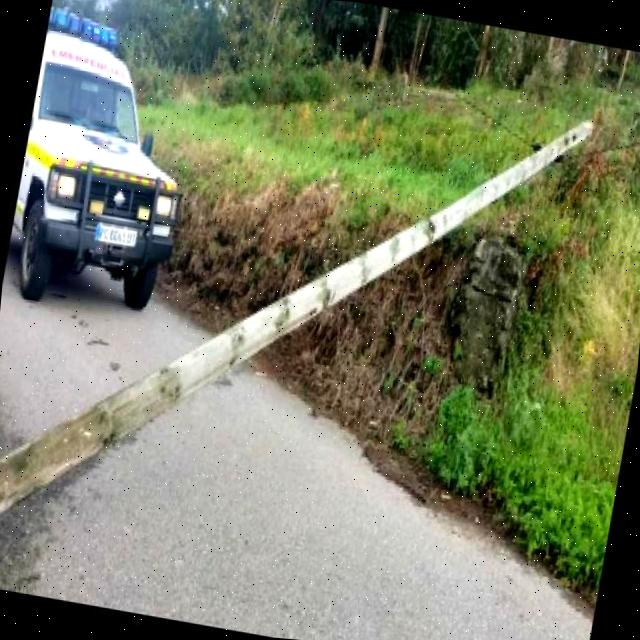Broken Pole: (0, 114, 596, 512)
